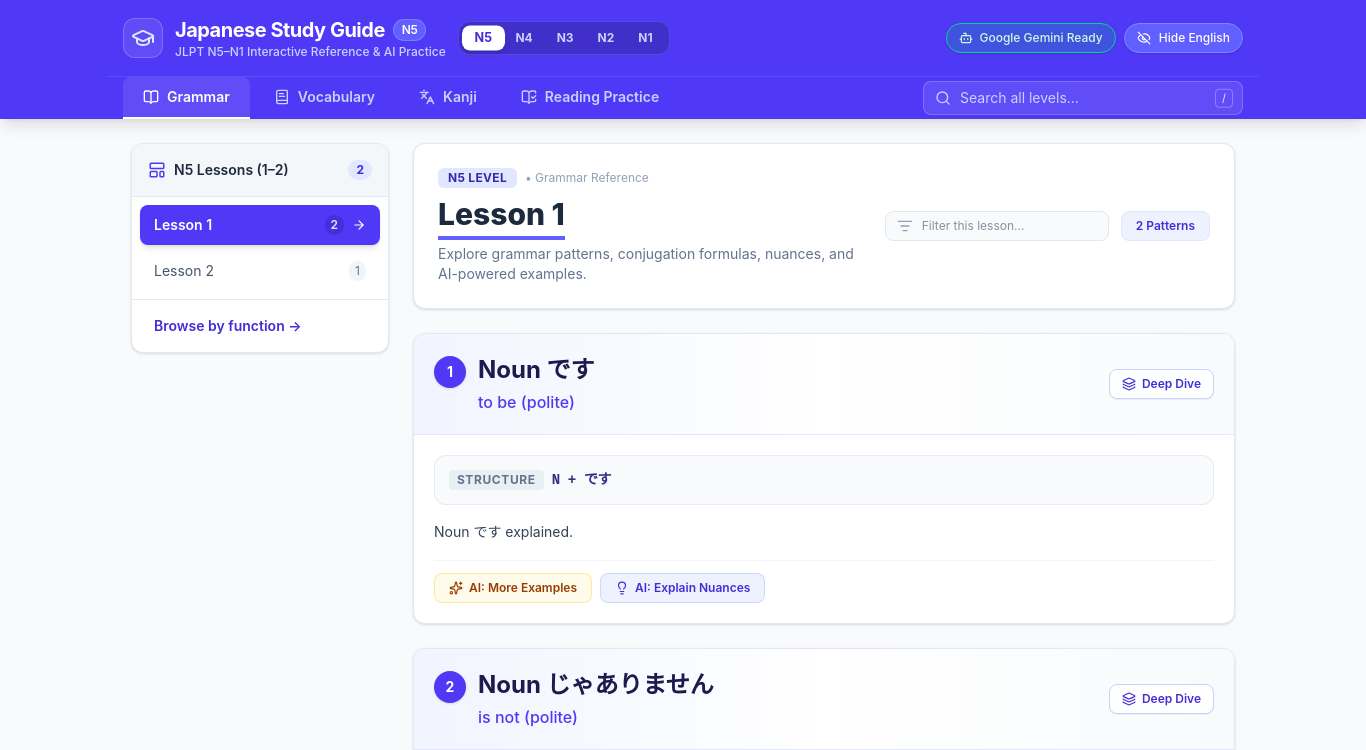
AI artifacts on study cards › grammar examples accumulate across presses
Expected: the text "Noun です" is shown, [478,355,595,384]
Click the button "AI: More Examples": (513,588) [434,573,592,603]
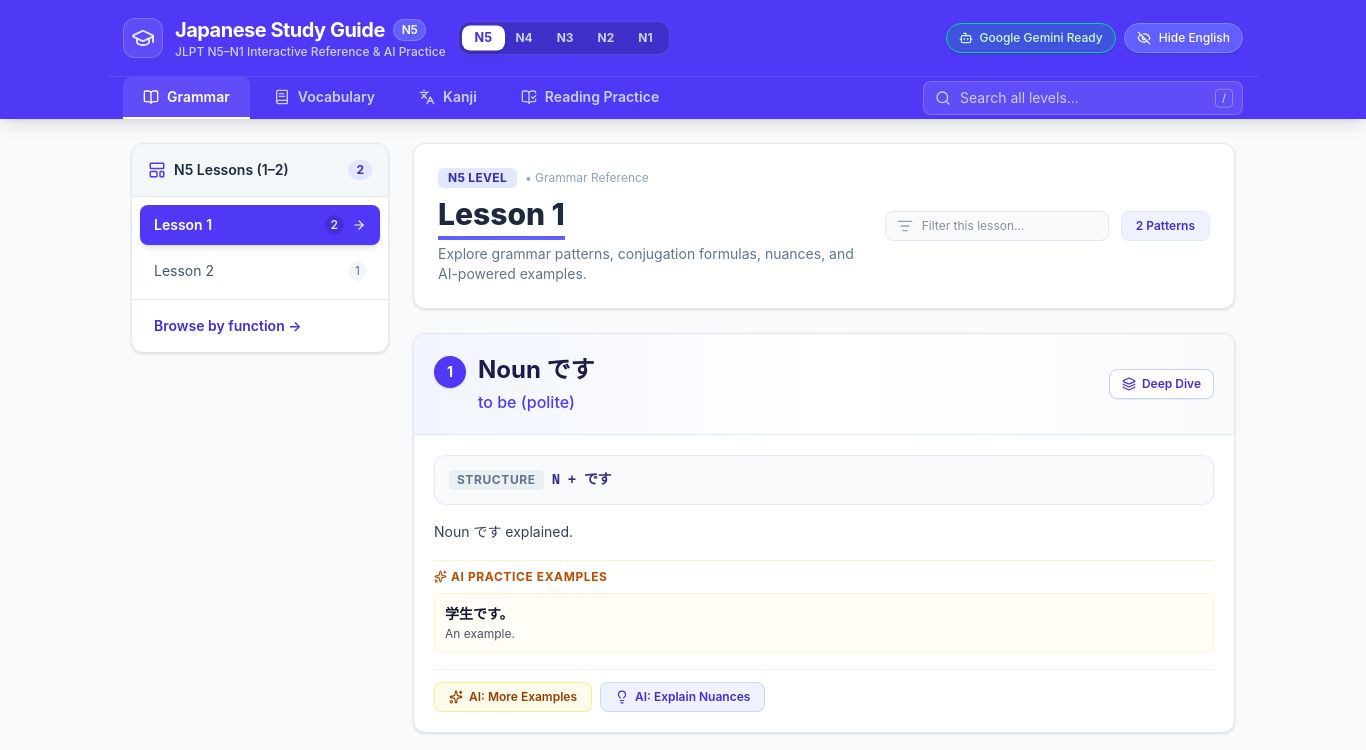
Expected: the text "学生です。" is shown, [445,605,514,622]
Click the button "AI: More Examples": (513,697) [434,682,592,712]
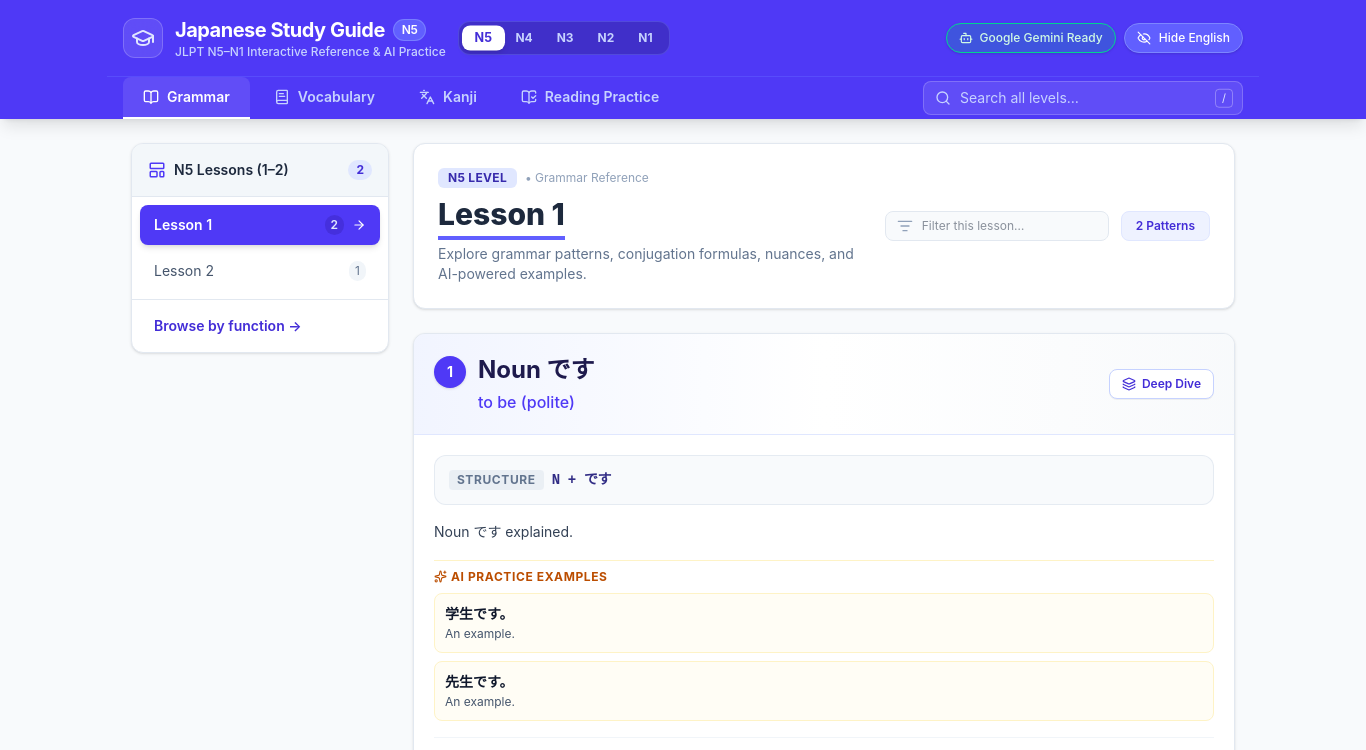
Expected: the text "学生です。" is shown, [445,605,514,622]
Expected: the text "先生です。" is shown, [445,673,514,690]
